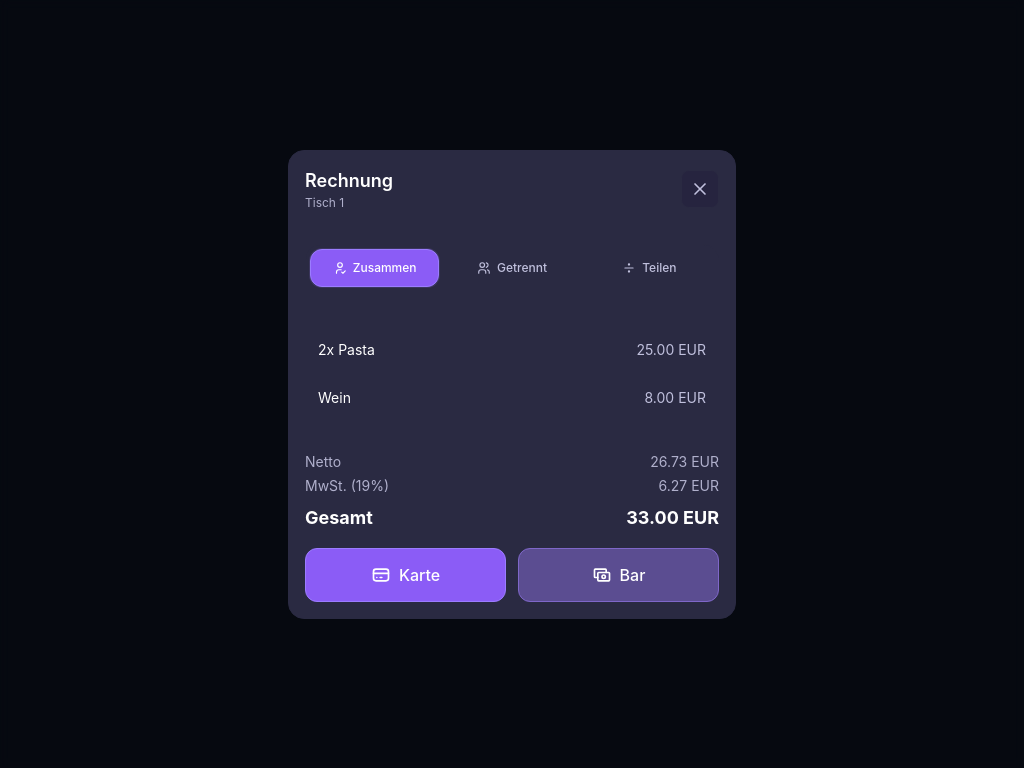
Test: Scenario 1 — Combined Billing (full order → card payment → close) › tip is recorded in tipHistory with correct amount and method
The image size is (1024, 768).
Later steps or results of the test are not shown.
Check: the text "33.00 EUR" is shown, box x1=626 y1=504 x2=719 y2=532
Click the button "Karte": {"x": 406, "y": 574} x1=305 y1=548 x2=506 y2=602
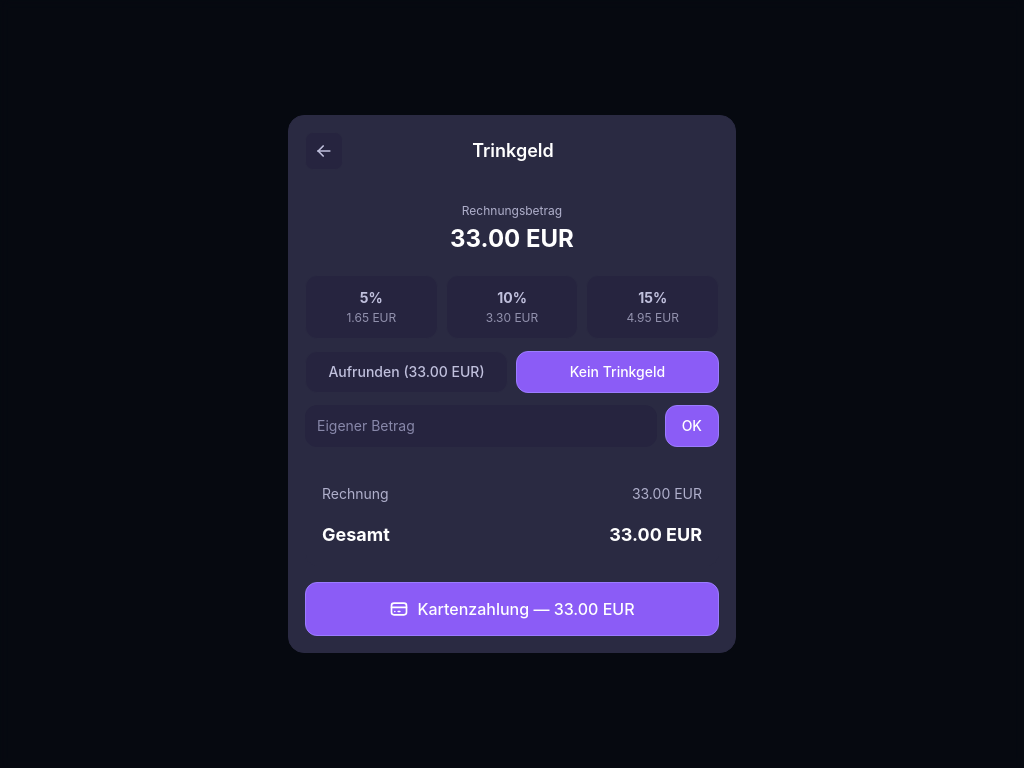
Check: the heading "Trinkgeld" is shown, box x1=472 y1=137 x2=554 y2=165
Click the button "5% 1.65 EUR": {"x": 371, "y": 307} x1=305 y1=275 x2=438 y2=339
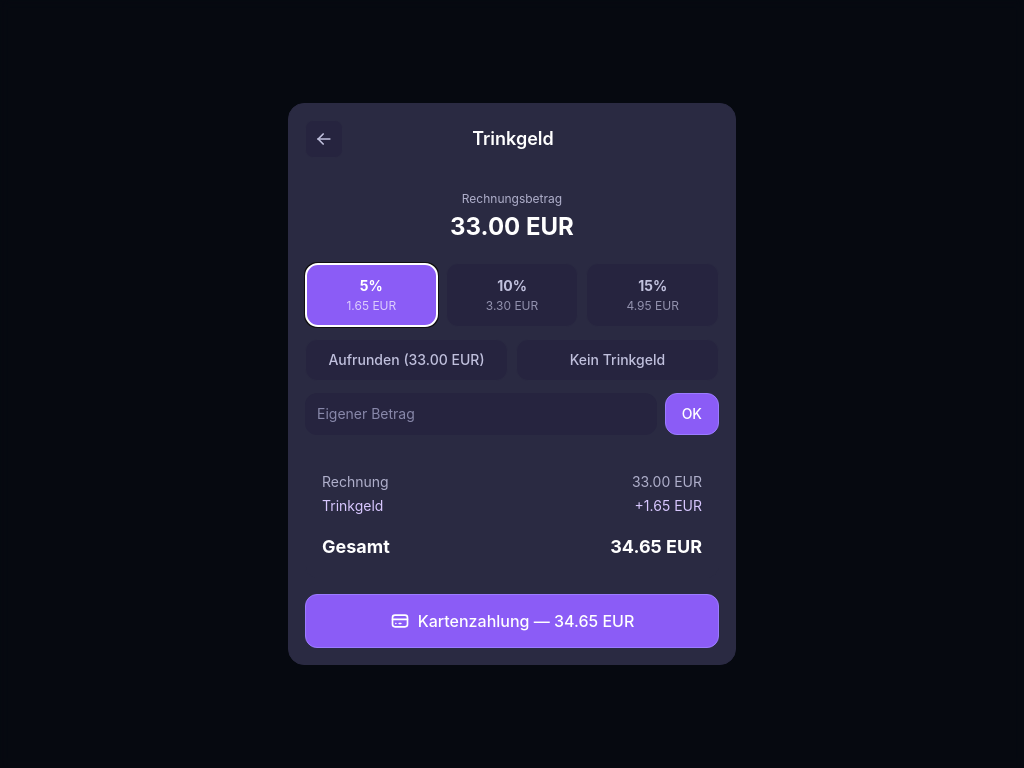
Click the button "Kartenzahlung — 34.65 EUR": {"x": 512, "y": 621} x1=305 y1=594 x2=719 y2=648
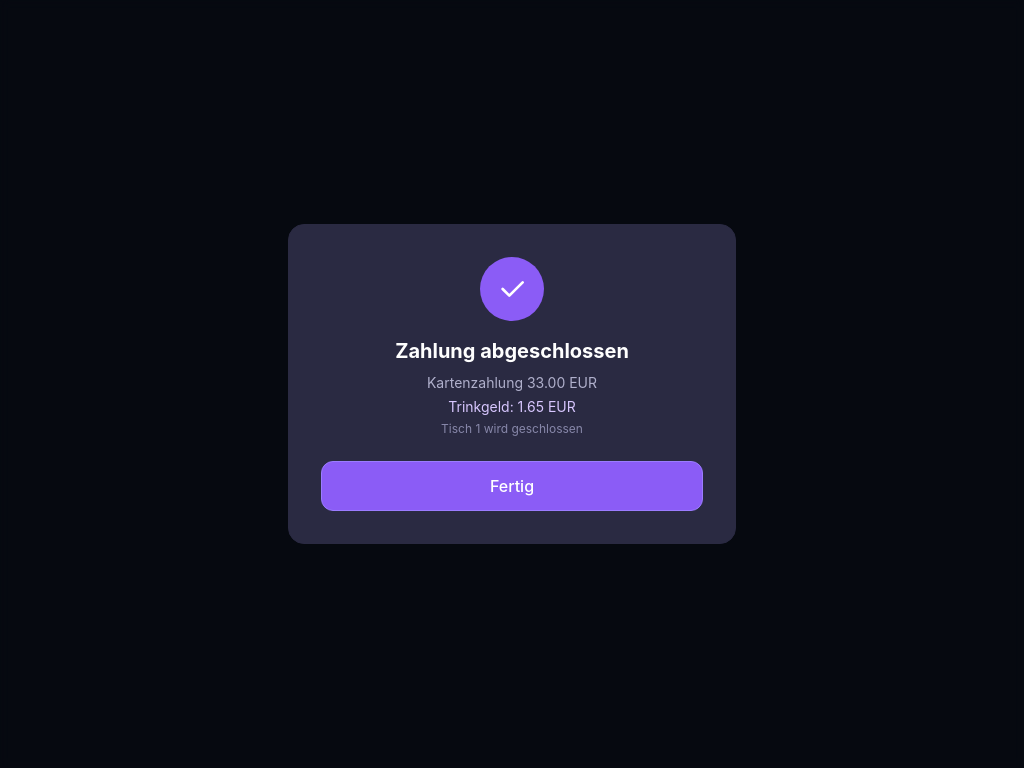
Check: the heading "Zahlung abgeschlossen" is shown, box x1=395 y1=339 x2=629 y2=363
